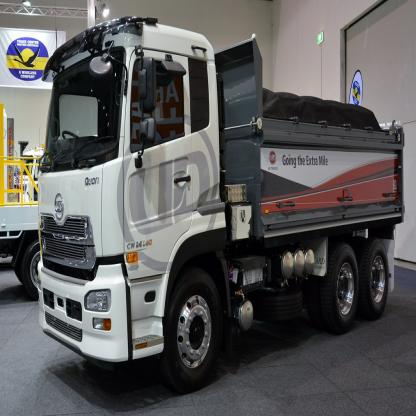dump_truck: (31, 13, 406, 387)
